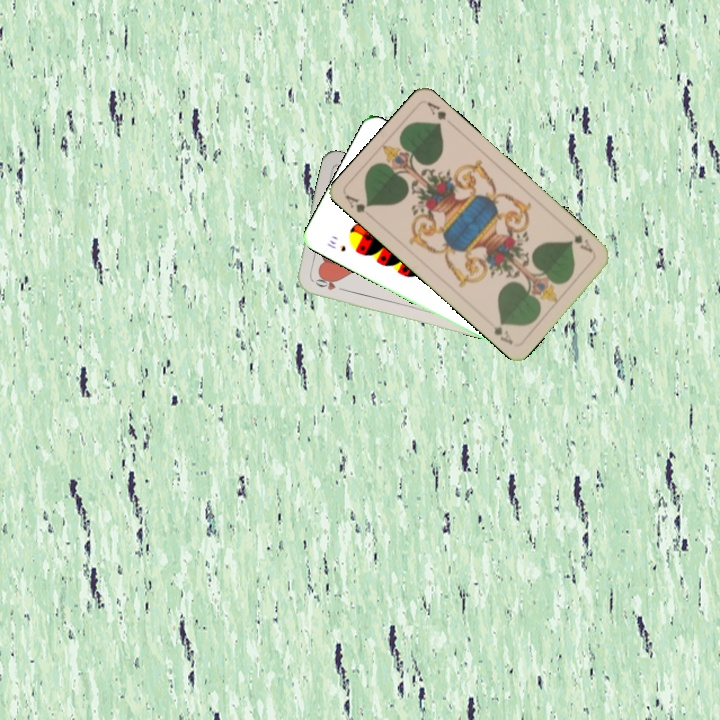GA: (341, 191, 373, 215), (565, 231, 595, 255)
HO: (308, 274, 347, 294)
S10: (323, 236, 349, 254)
